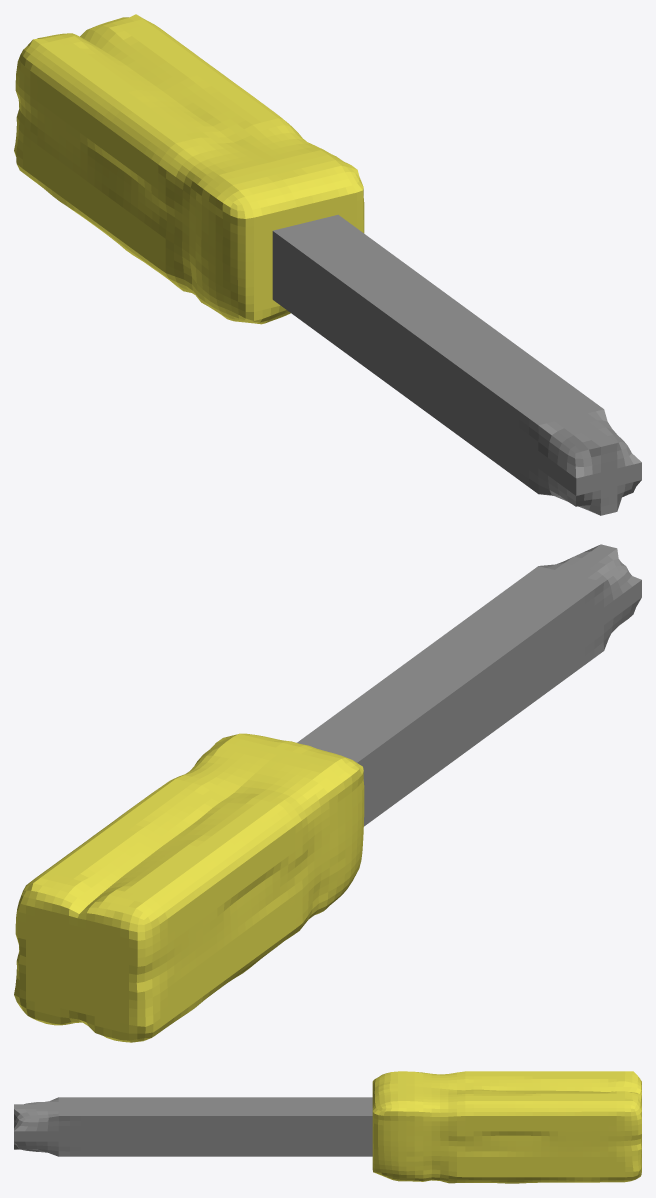
File: screwdriver.fbx
3 renders of one model, top to bottom at view 1: azimuth 30°, elevation 25°; view 2: azimuth 150°, elevation 25°; view 3: azimuth 270°, elevation 25°, orthographic. The views are drawn at different scales.
Parts seen in each view (by area): view 1: Cube, Cube.001; view 2: Cube, Cube.001; view 3: Cube, Cube.001.
Part boxes in pixels (x1,y1,x2,y2): Cube: (14,14,364,324); Cube.001: (272,214,641,515); Cube: (14,733,364,1042); Cube.001: (297,544,641,826); Cube: (372,1071,641,1183); Cube.001: (14,1097,372,1156).
Size of the model in its own units: 209 by 200 by 1399.
